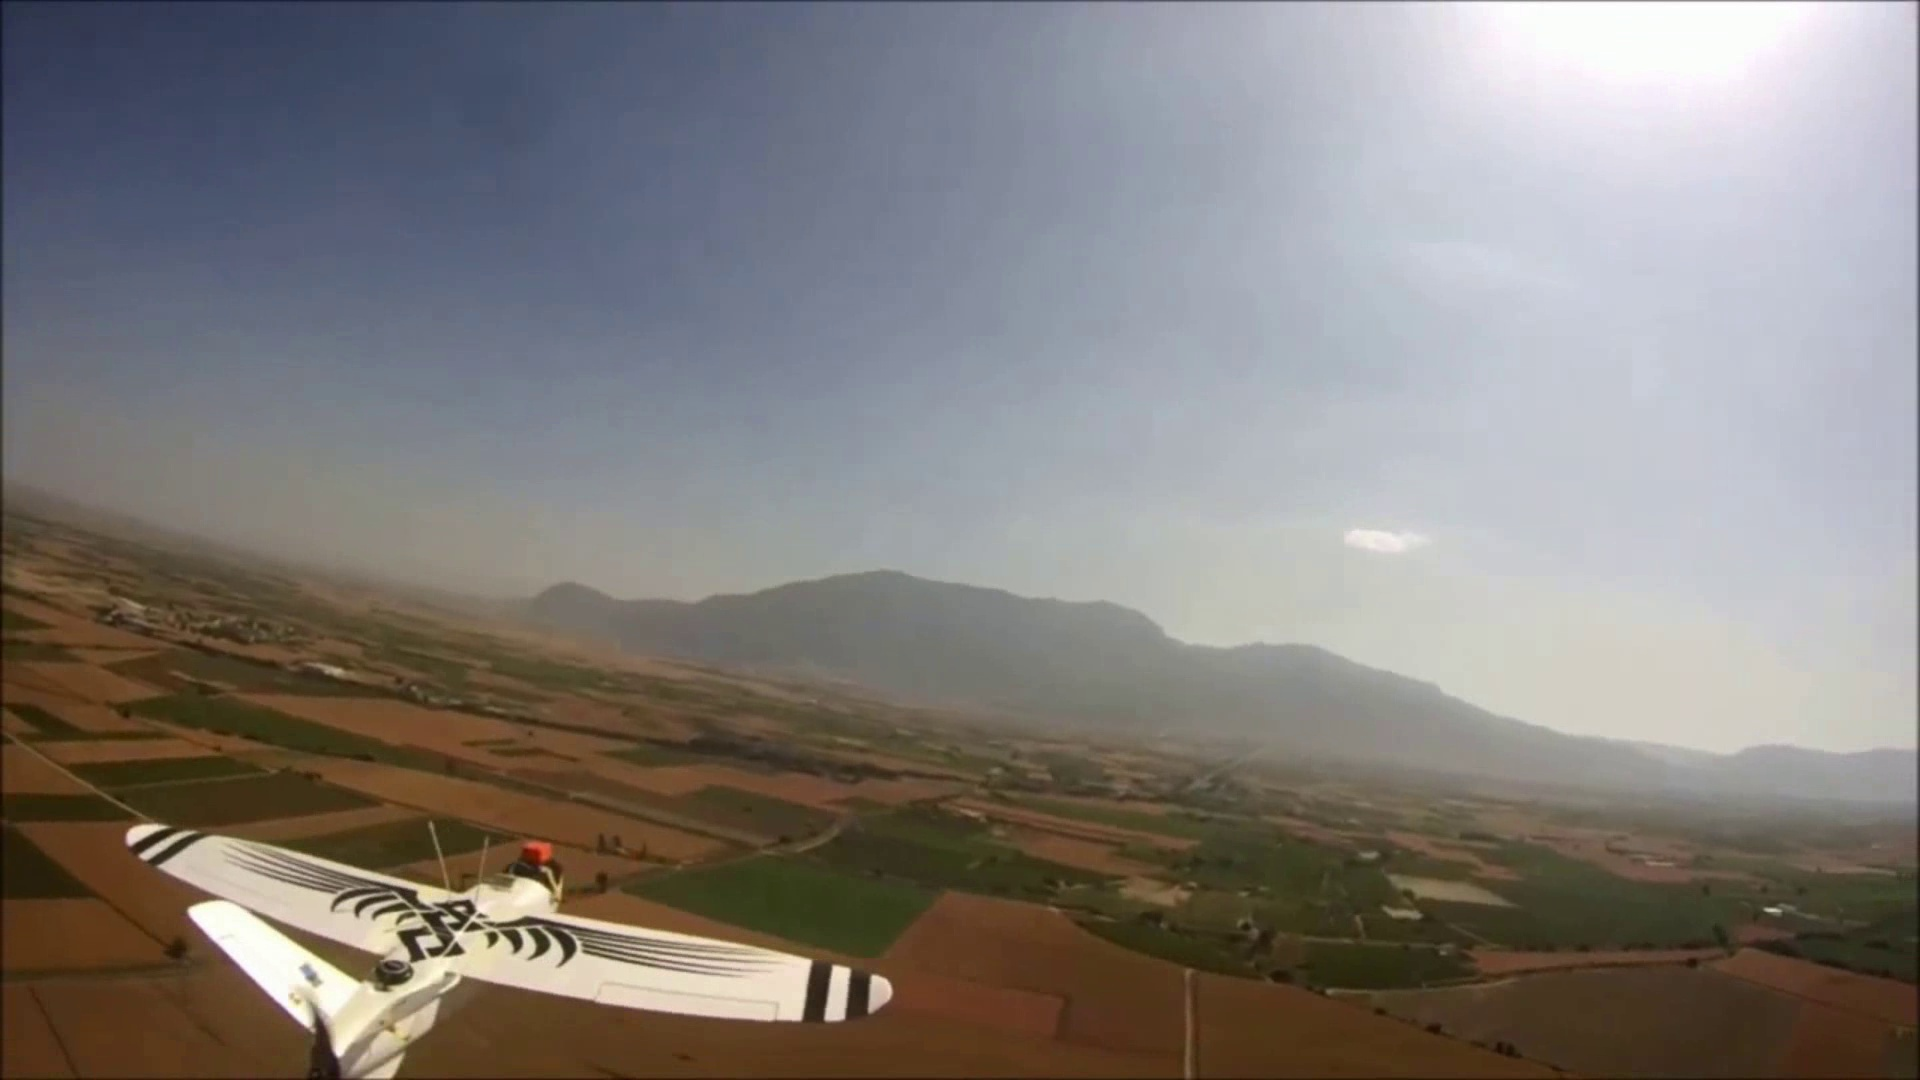airplane: (91, 816, 887, 1073)
